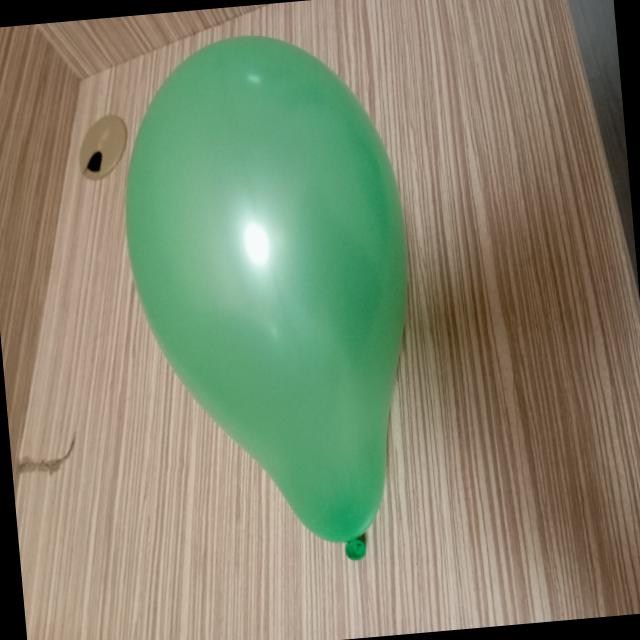balloon: (125, 36, 407, 544)
